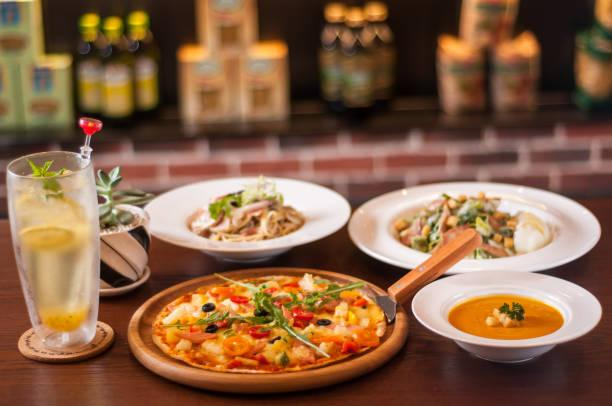Braised Crucian Carp: (127, 267, 404, 394), (350, 180, 599, 275), (409, 269, 603, 364), (145, 175, 348, 263)
